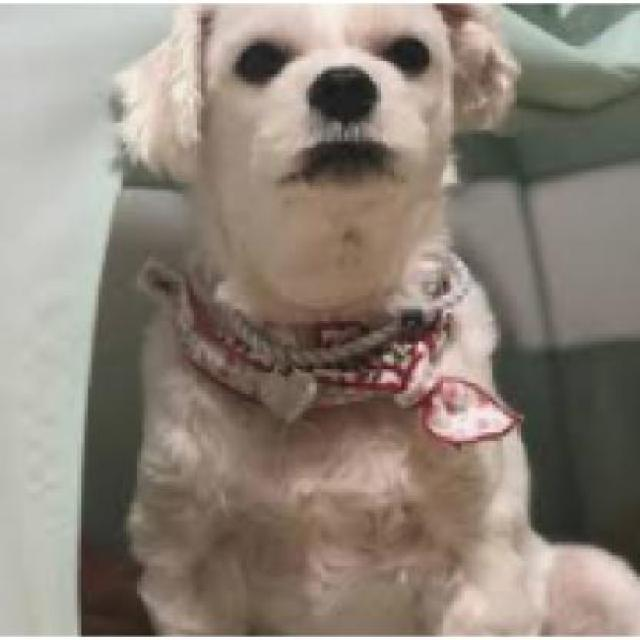Dog: (112, 2, 637, 629)
